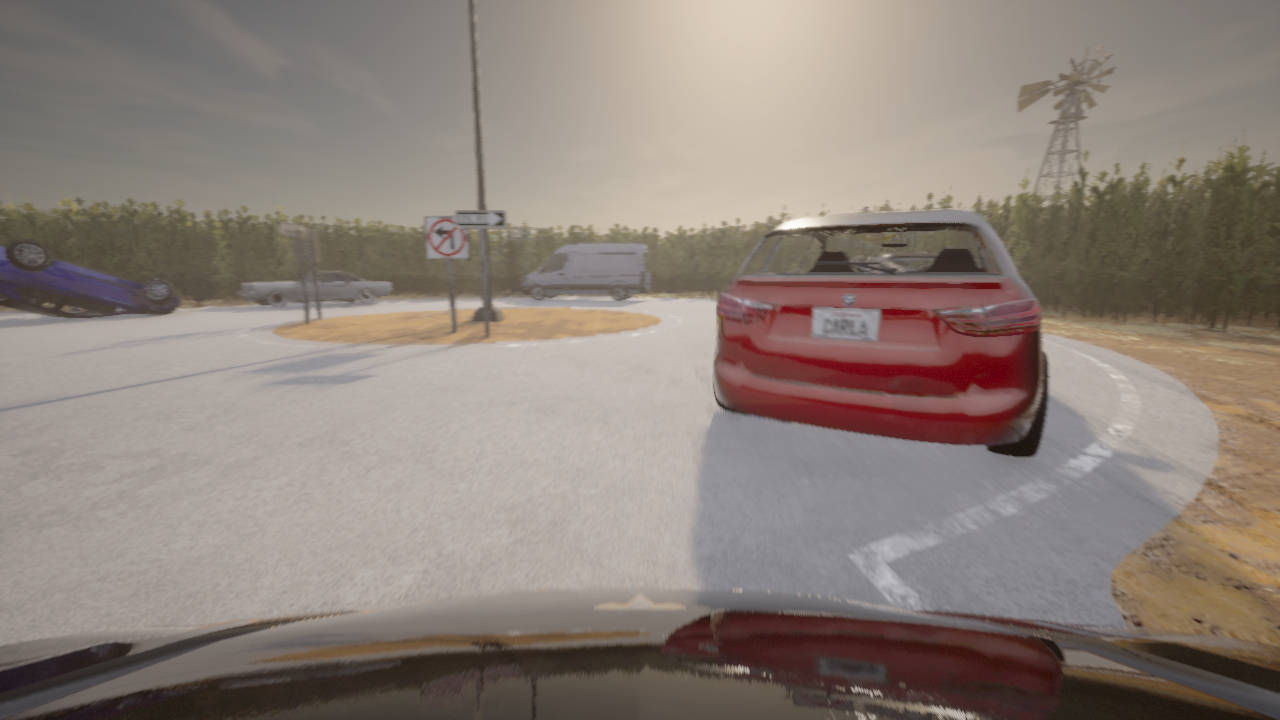cyclist: (0, 588, 1279, 719), (712, 208, 1047, 457), (0, 239, 181, 318), (521, 242, 650, 300), (237, 271, 391, 307)
